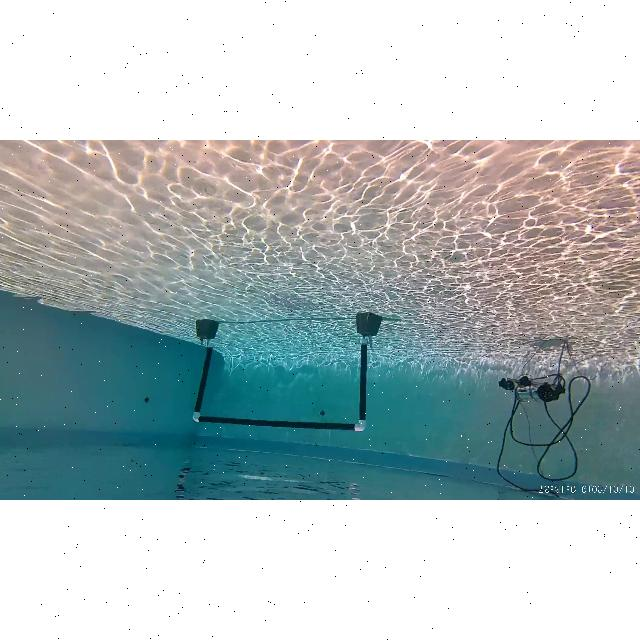prequal gate: (192, 340, 368, 432)
prequal gate leg l: (352, 338, 370, 432)
prequal gate leg r: (190, 340, 213, 426)
